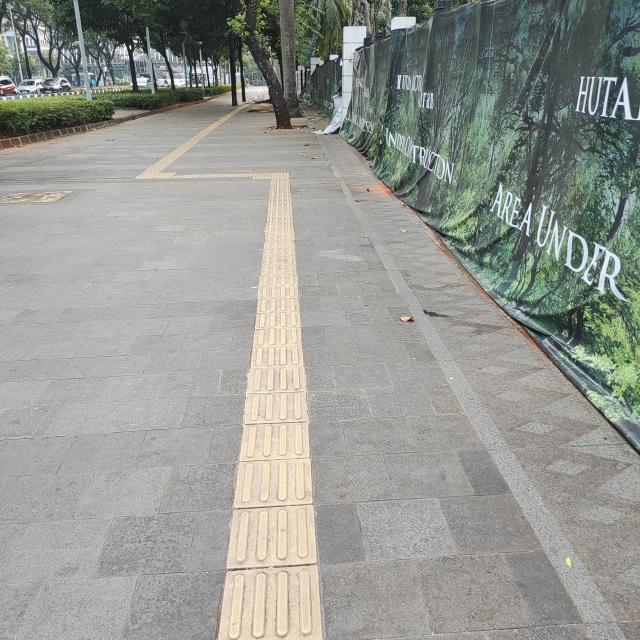lurus: (229, 173, 314, 640)
